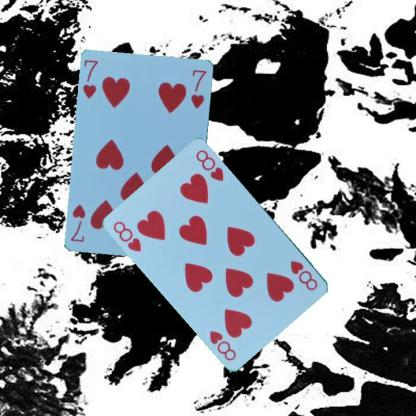7h: (80, 57, 100, 100)
8h: (111, 218, 143, 254), (288, 258, 320, 292)
